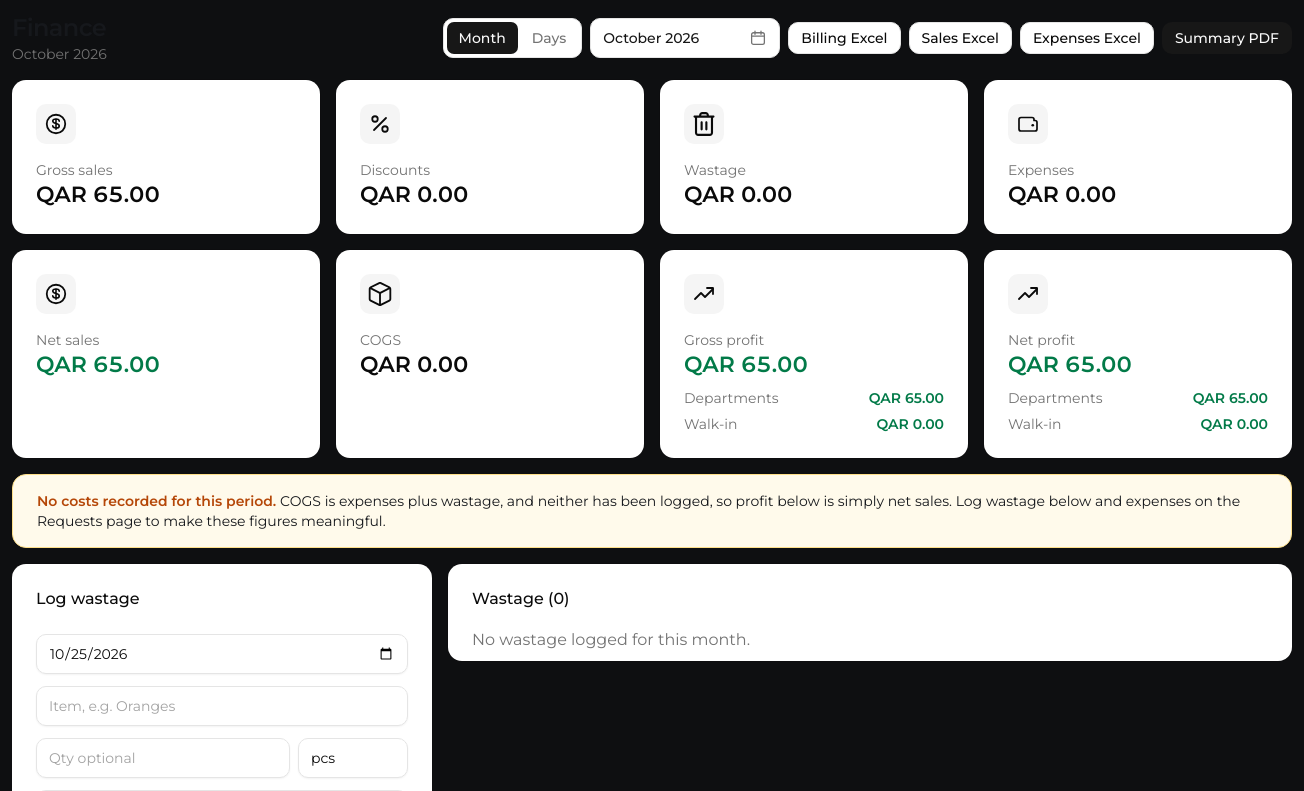
FinanceScreen date range › swaps the month picker for two date pickers in Days mode
The image size is (1304, 791).
expect the 2nd text "October 2026" is shown: met, box [12,44,107,64]
Click the button "Days": (549, 38) [520,22,578,54]
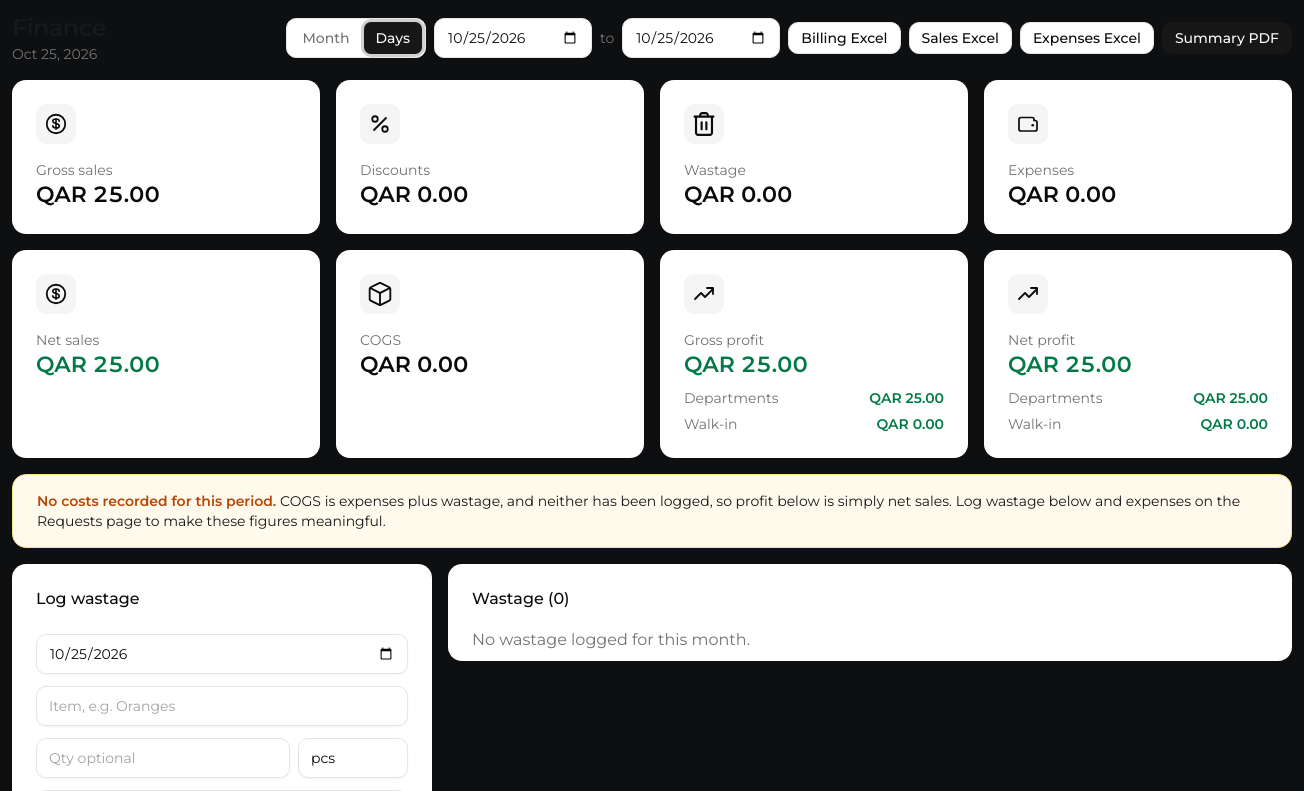
expect the date field named "From date" is shown: met, box [434,18,592,58]
expect the date field named "To date" is shown: met, box [622,18,780,58]
